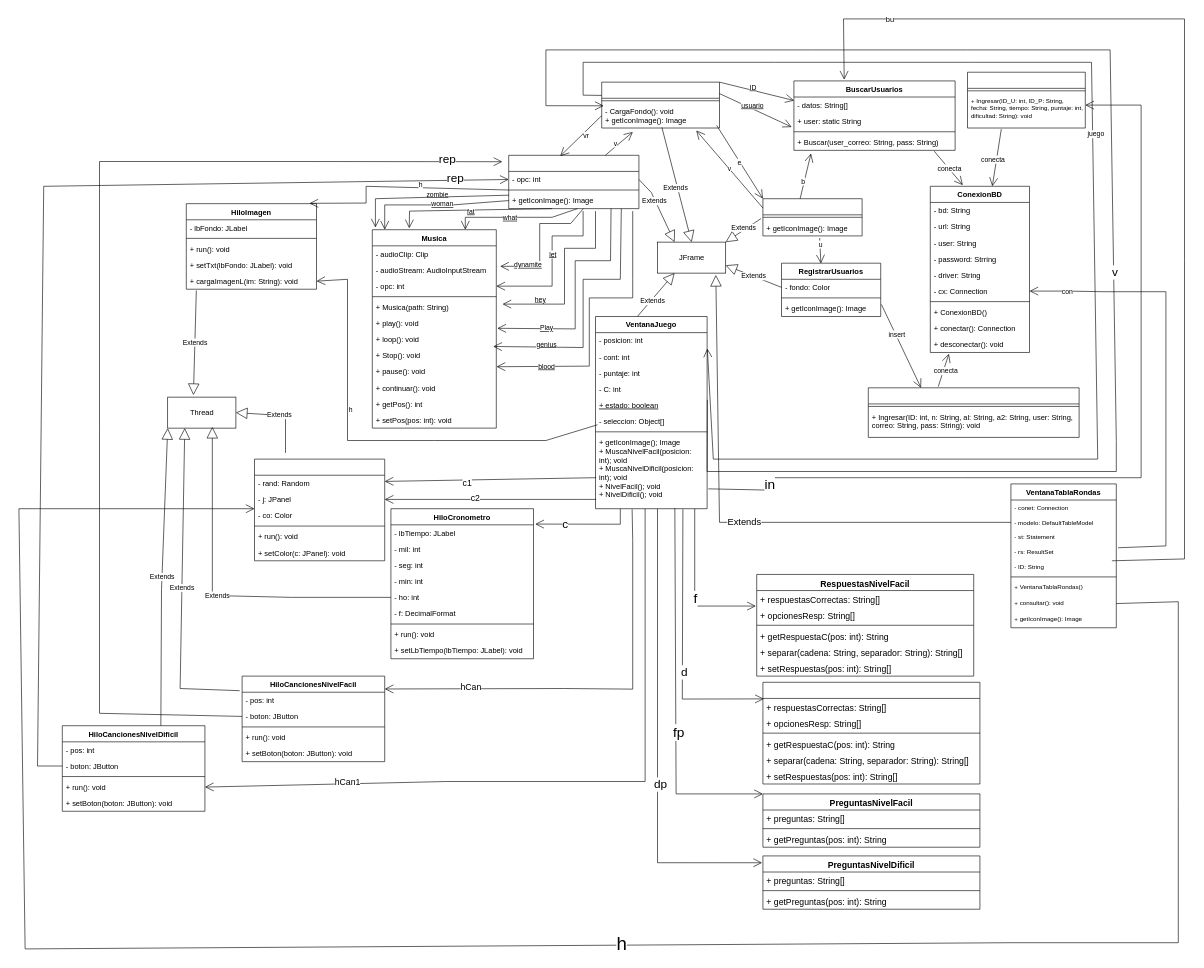
Some shapes in this 1204 by 968 pixel diagram are drawn without their labels. Each missing label, with the box of its shape:
Colores: (254, 458, 385, 561)
EscritorioPrincipal: (762, 198, 862, 236)
IngresarDatos: (868, 387, 1079, 437)
IngresarPartidas: (967, 72, 1085, 128)
RespuestasNivelDificil: (762, 682, 980, 784)
VentanaPrincipal: (601, 82, 720, 128)
VentanaReproductor: (508, 155, 639, 209)
